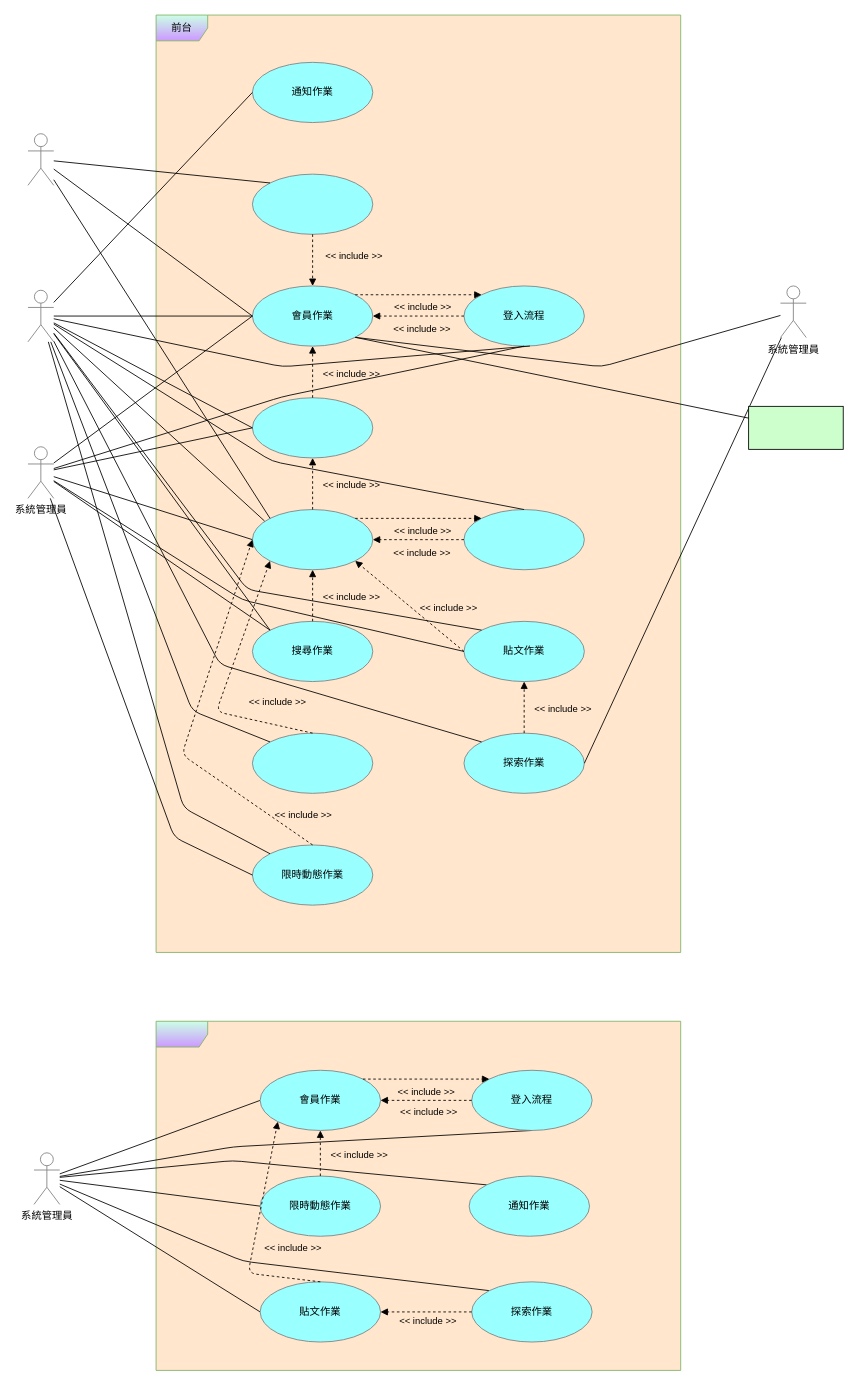
The diagram is 858 pixels wide and 1385 high, and some of its shapes have lost their labels. The shapes that lost their labels are listed below. From the top down, each one's box as (x1, y1, x2, y2) in pixels, then its label:
(27, 133, 54, 185): 人員
(252, 173, 373, 234): 註冊流程
(27, 289, 54, 342): 會員
(252, 397, 373, 458): 基本資料作業
(748, 405, 843, 449): « actor » Meta 帳戶管理系統
(252, 509, 373, 570): 個人檔案作業
(463, 509, 584, 570): 追蹤作業
(252, 732, 373, 793): 聊天作業
(155, 1020, 681, 1370): 後台
